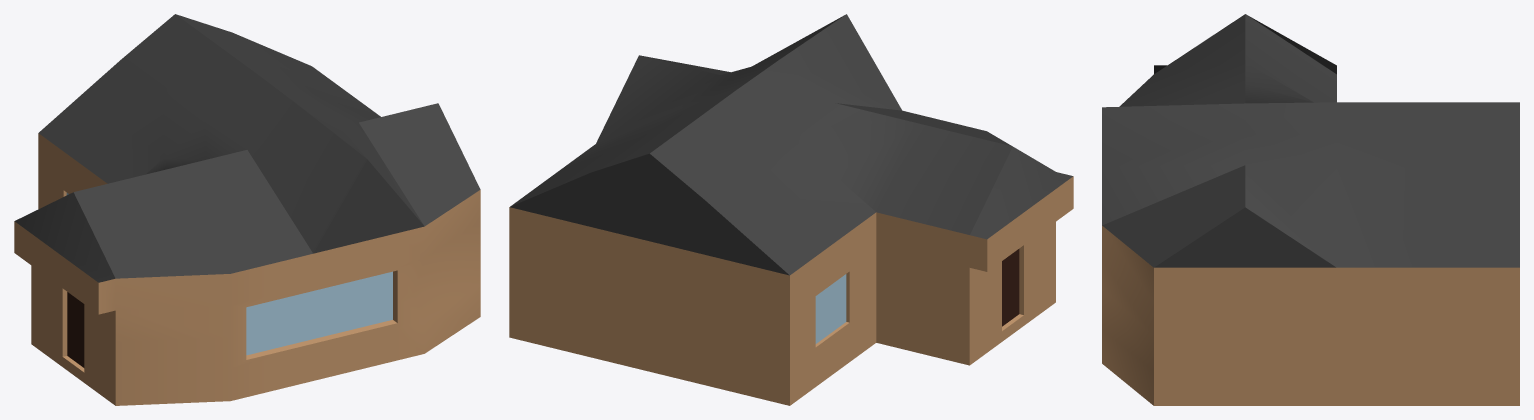
File: HouseB.fbx
The picture shows the model from 3 angles, left to right: view 1: azimuth 30°, elevation 25°; view 2: azimuth 150°, elevation 25°; view 3: azimuth 270°, elevation 25°; orthographic projection. The views are drawn at different scales.
Parts seen in each view (by area): view 1: Cube; view 2: Cube; view 3: Cube.
Boxes of the visible parts, bbox=[...] form: Cube: bbox=[14, 14, 480, 405]; Cube: bbox=[509, 14, 1073, 405]; Cube: bbox=[1102, 14, 1519, 405].
Size of the model in its own units: 628 by 335 by 548.
